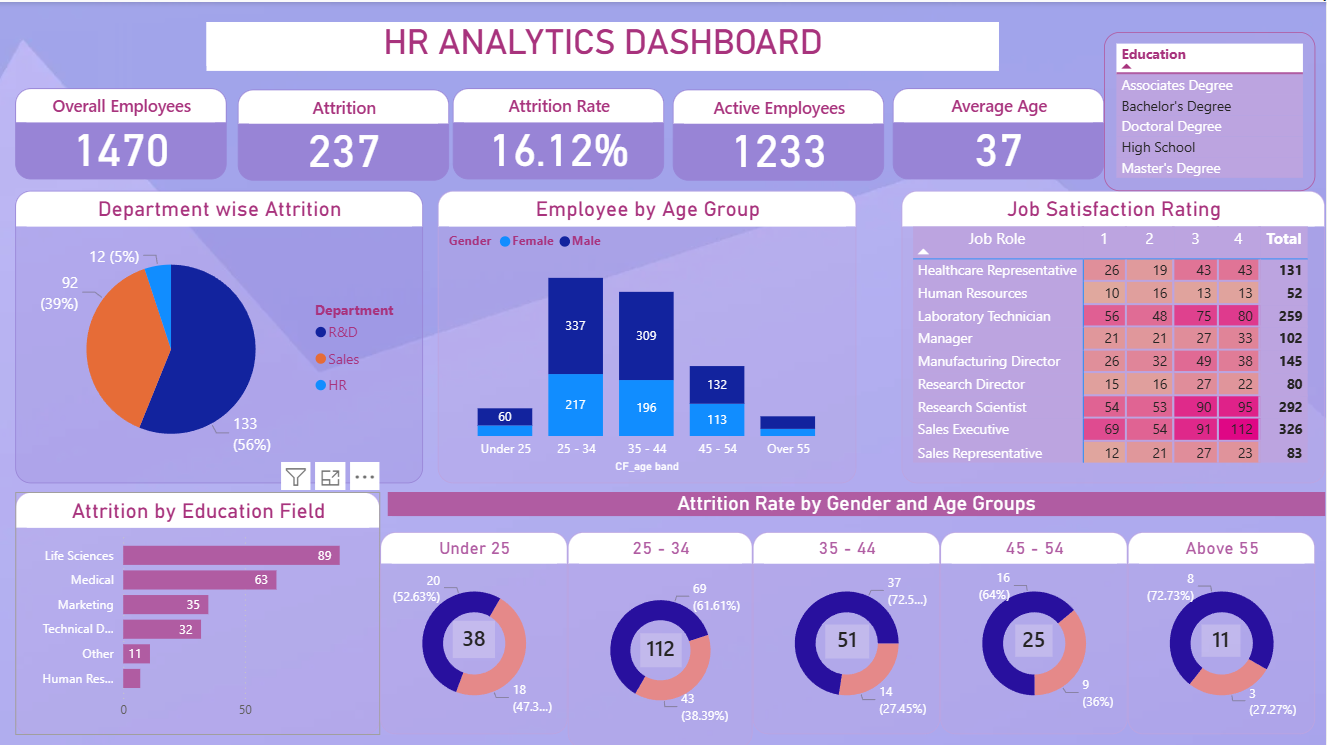

The page's visual inventory and layout, read from the dashboard file:
{"tool":"powerbi","page":{"name":"Page 1","canvas":[1280,720],"ordinal":0},"visuals":[{"type":"card","title":"Overall Employees","fields":{"Values":["Sum(HR Data.Employee Count)"]},"box":[15.7,83.2,203.9,88.1],"z":0},{"type":"card","title":"Attrition Rate","fields":{"Values":["HR Data.Attrition Rate"]},"box":[437.9,83.2,203.9,88.1],"z":1000},{"type":"card","title":"Active Employees","fields":{"Values":["HR Data.Active Employees"]},"box":[650.3,84.5,203.9,88.1],"z":2000},{"type":"card","title":"Average Age","fields":{"Values":["Avg(HR Data.Age)"]},"box":[862.6,83.2,203.9,88.1],"z":3000},{"type":"card","title":"Attrition","fields":{"Values":["Sum(HR Data.Attrition Count)"]},"box":[230.4,84.5,203.9,88.1],"z":4000},{"type":"pieChart","title":"Department wise Attrition ","fields":{"Category":["HR Data.Department"],"Y":["Sum(HR Data.Attrition Count)"]},"box":[15.7,182.2,393.3,282.3],"z":5000},{"type":"columnChart","title":"Employee by Age Group","fields":{"Category":["HR Data.CF_age band"],"Series":["HR Data.Gender"],"Y":["Sum(HR Data.Employee Count)"]},"box":[423.5,182.2,404.2,282.3],"z":6000},{"type":"pivotTable","title":"Job Satisfaction Rating","fields":{"Columns":["HR Data.Job Satisfaction"],"Rows":["HR Data.Job Role"],"Values":["Sum(HR Data.Employee Count)"]},"box":[871.1,182.2,409,282.3],"z":7000},{"type":"barChart","title":"Attrition by Education Field","fields":{"Category":["HR Data.Education Field"],"Y":["Sum(HR Data.Attrition Count)"]},"box":[15.7,472.9,352.3,234],"z":8000},{"type":"donutChart","title":"Under 25","fields":{"Category":["HR Data.Gender"],"Series":["HR Data.CF_age band"],"Y":["Sum(HR Data.Attrition Count)"]},"box":[368,511.5,181,195.4],"z":9000},{"type":"textbox","title":"Attrition Rate by Gender and Age Groups","box":[375.2,472.9,904.8,22.9],"z":10000},{"type":"donutChart","title":"25 - 34","fields":{"Category":["HR Data.Gender"],"Series":["HR Data.CF_age band"],"Y":["Sum(HR Data.Attrition Count)"]},"box":[548.9,511.5,178.6,208.7],"z":11000},{"type":"donutChart","title":"35 - 44","fields":{"Category":["HR Data.Gender"],"Series":["HR Data.CF_age band"],"Y":["Sum(HR Data.Attrition Count)"]},"box":[727.5,511.5,181,195.4],"z":12000},{"type":"donutChart","title":"Above 55","fields":{"Category":["HR Data.Gender"],"Series":["HR Data.CF_age band"],"Y":["Sum(HR Data.Attrition Count)"]},"box":[1089.4,511.5,181,195.4],"z":13000},{"type":"donutChart","title":"45 - 54","fields":{"Category":["HR Data.Gender"],"Series":["HR Data.CF_age band"],"Y":["Sum(HR Data.Attrition Count)"]},"box":[908.4,511.5,181,195.4],"z":14000},{"type":"card","fields":{"Values":["Sum(HR Data.Attrition Count)"]},"box":[437.9,597.2,41,36.2],"z":15000},{"type":"card","fields":{"Values":["Sum(HR Data.Attrition Count)"]},"box":[618.9,609.3,39.8,32.6],"z":16000},{"type":"card","fields":{"Values":["Sum(HR Data.Attrition Count)"]},"box":[797.5,600.8,42.2,32.6],"z":17000},{"type":"card","fields":{"Values":["Sum(HR Data.Attrition Count)"]},"box":[980.8,600.8,36.2,31.4],"z":18000},{"type":"card","fields":{"Values":["Sum(HR Data.Attrition Count)"]},"box":[1160.6,600.8,37.4,31.4],"z":19000},{"type":"textbox","title":"HR ANALYTICS DASHBOARD","box":[200.3,19.3,764.9,47.1],"z":20000},{"type":"tableEx","fields":{"Values":["HR Data.Education"]},"box":[1066.5,29,203.9,153.2],"z":21000}]}

Visuals, with their boxes in screenshot pixels (x1, y1, x2, y2), scaled from the page's 1280x720 canvas onto the 1327x745 screenshot:
"Overall Employees" card: <bbox>16, 86, 228, 177</bbox>
"Attrition Rate" card: <bbox>454, 86, 665, 177</bbox>
"Active Employees" card: <bbox>674, 87, 886, 179</bbox>
"Average Age" card: <bbox>894, 86, 1106, 177</bbox>
"Attrition" card: <bbox>239, 87, 450, 179</bbox>
"Department wise Attrition " pieChart: <bbox>16, 189, 424, 481</bbox>
"Employee by Age Group" columnChart: <bbox>439, 189, 858, 481</bbox>
"Job Satisfaction Rating" pivotTable: <bbox>903, 189, 1326, 481</bbox>
"Attrition by Education Field" barChart: <bbox>16, 489, 382, 731</bbox>
"Under 25" donutChart: <bbox>382, 529, 569, 731</bbox>
"Attrition Rate by Gender and Age Groups" textbox: <bbox>389, 489, 1326, 513</bbox>
"25 - 34" donutChart: <bbox>569, 529, 754, 744</bbox>
"35 - 44" donutChart: <bbox>754, 529, 942, 731</bbox>
"Above 55" donutChart: <bbox>1129, 529, 1317, 731</bbox>
"45 - 54" donutChart: <bbox>942, 529, 1129, 731</bbox>
card - Sum(HR Data.Attrition Count): <bbox>454, 618, 496, 655</bbox>
card - Sum(HR Data.Attrition Count): <bbox>642, 630, 683, 664</bbox>
card - Sum(HR Data.Attrition Count): <bbox>827, 622, 871, 655</bbox>
card - Sum(HR Data.Attrition Count): <bbox>1017, 622, 1054, 654</bbox>
card - Sum(HR Data.Attrition Count): <bbox>1203, 622, 1242, 654</bbox>
"HR ANALYTICS DASHBOARD" textbox: <bbox>208, 20, 1001, 69</bbox>
tableEx - HR Data.Education: <bbox>1106, 30, 1317, 189</bbox>
